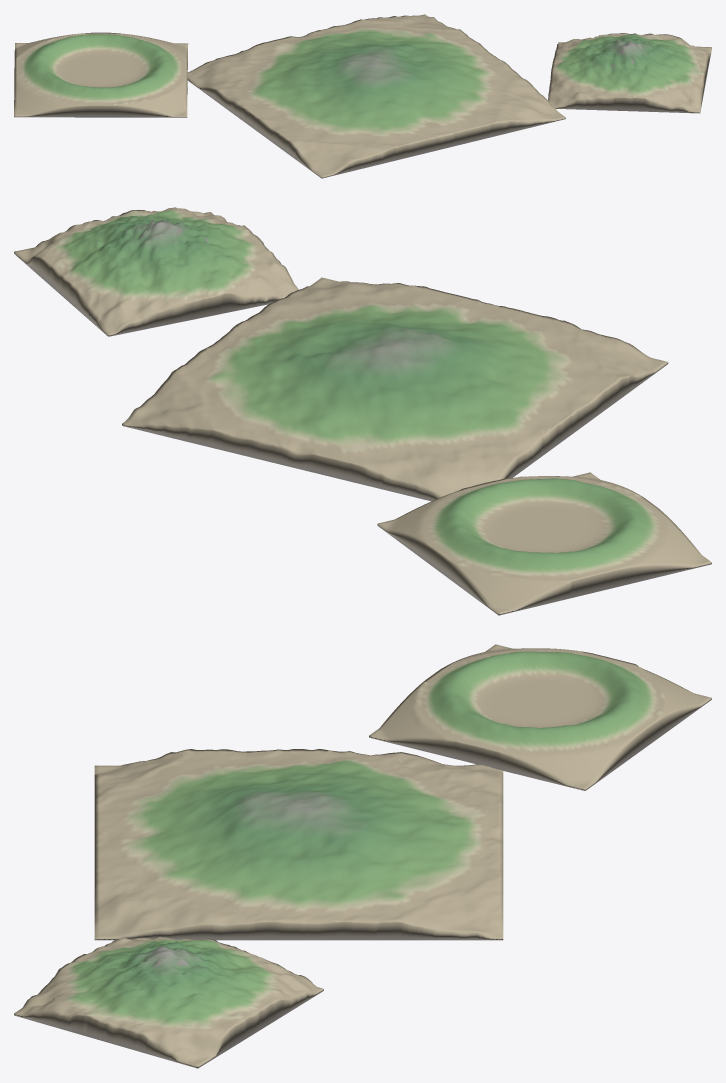
The model's file is gen_island_cluster.glb.
The picture shows the model from 3 angles, top to bottom: view 1: azimuth 30°, elevation 25°; view 2: azimuth 150°, elevation 25°; view 3: azimuth 270°, elevation 25°; orthographic projection. The views are drawn at different scales.
Parts seen in each view (by area): view 1: gen_island_cluster; view 2: gen_island_cluster; view 3: gen_island_cluster.
Part boxes in pixels (left/top/right/bottom): gen_island_cluster: left=14, top=14, right=711, bottom=178; gen_island_cluster: left=14, top=207, right=711, bottom=615; gen_island_cluster: left=14, top=644, right=711, bottom=1068.
Bounding box in the file's own units: 107 × 6.24 × 75.15.
